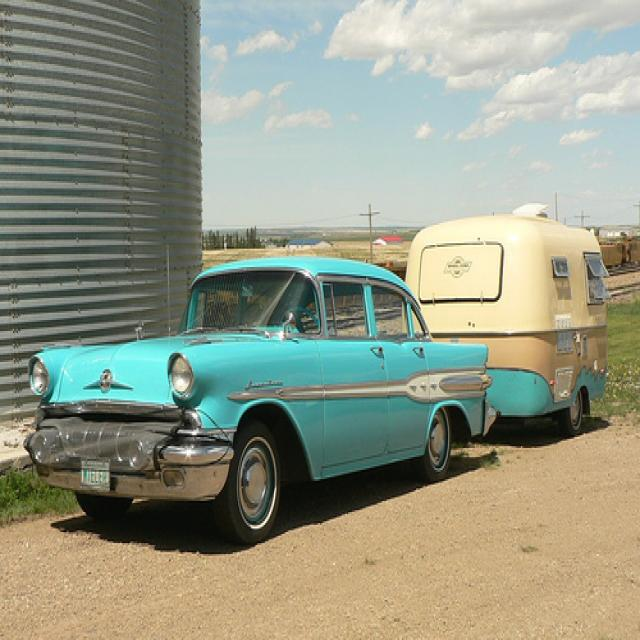Car: (23, 251, 496, 542)
